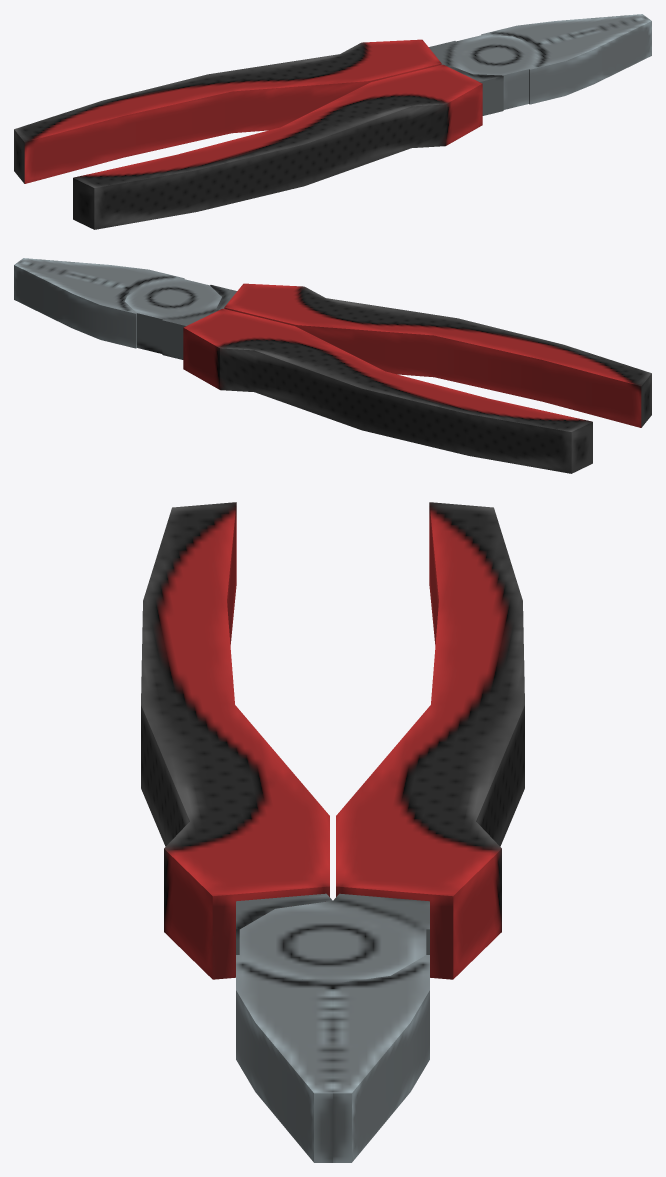
File: ITEM_plier.FBX
3 renders of one model, top to bottom at view 1: azimuth 30°, elevation 25°; view 2: azimuth 150°, elevation 25°; view 3: azimuth 270°, elevation 25°, orthographic. The views are drawn at different scales.
Visible parts, largest first — view 1: ITEM_plier, ITEM_plier_handle; view 2: ITEM_plier, ITEM_plier_handle; view 3: ITEM_plier, ITEM_plier_handle.
Boxes of the visible parts, x1,y1,x2,y2 form: ITEM_plier: (14, 17, 651, 183); ITEM_plier_handle: (73, 14, 646, 229); ITEM_plier: (19, 258, 592, 473); ITEM_plier_handle: (14, 261, 651, 427); ITEM_plier: (236, 502, 524, 1162); ITEM_plier_handle: (141, 502, 429, 1162).
Bounding box in the file's own units: 20.05 × 1.34 × 5.57.
